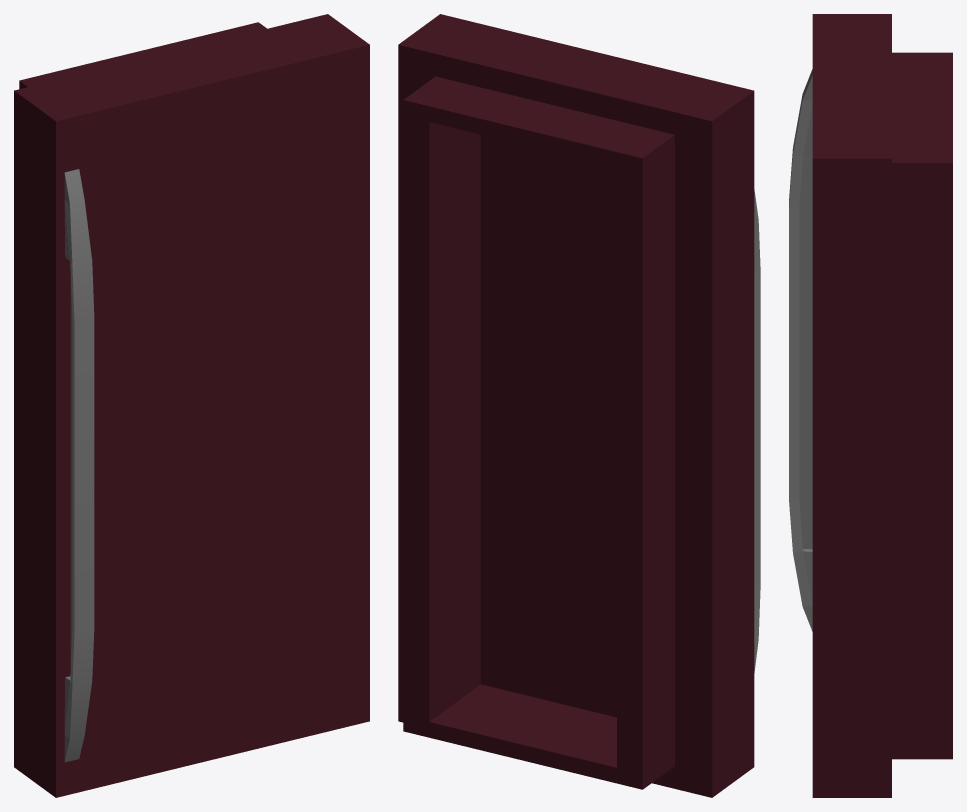
File: Itr_Obj_Fridge1_Top_Door_Right_04.FBX
3 views of the same model, side by side, from view 1: azimuth 30°, elevation 25°; view 2: azimuth 150°, elevation 25°; view 3: azimuth 270°, elevation 25° (orthographic). The views are drawn at different scales.
Visible parts, largest first — view 1: Itr_Obj_Fridge1_Top_Door_Right_0; view 2: Itr_Obj_Fridge1_Top_Door_Right_0; view 3: Itr_Obj_Fridge1_Top_Door_Right_0.
Boxes of the visible parts, x1,y1,x2,y2 form: Itr_Obj_Fridge1_Top_Door_Right_0: (14,14,369,797); Itr_Obj_Fridge1_Top_Door_Right_0: (398,14,760,797); Itr_Obj_Fridge1_Top_Door_Right_0: (789,14,952,797).
Size of the model in its own units: 22.45 by 46.23 by 10.74.
